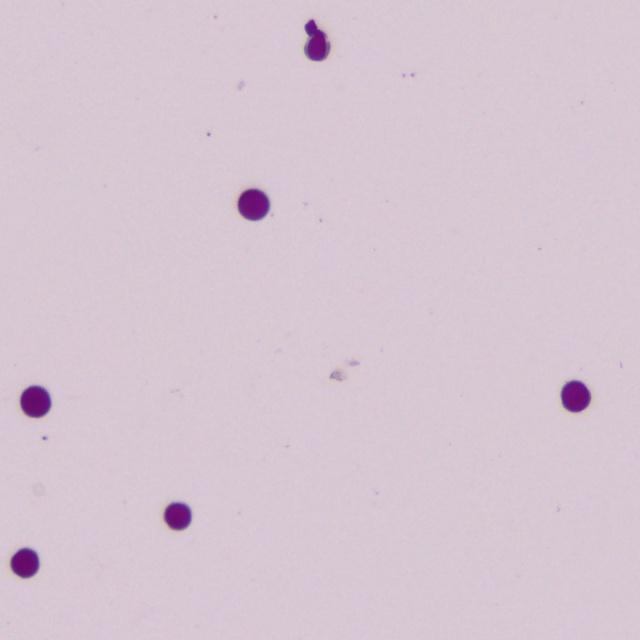viable: (238, 189, 269, 220), (21, 386, 50, 417), (562, 380, 590, 412), (11, 548, 39, 577), (164, 502, 191, 529), (305, 30, 329, 60)
